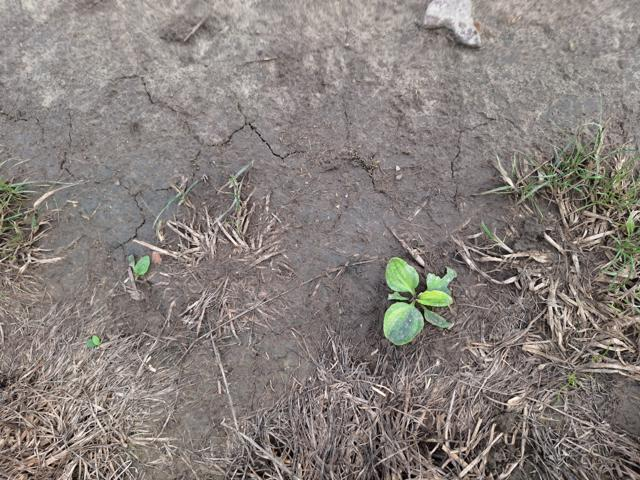bad weed: (481, 135, 640, 368), (354, 249, 459, 356), (113, 246, 160, 294), (79, 327, 114, 357)
